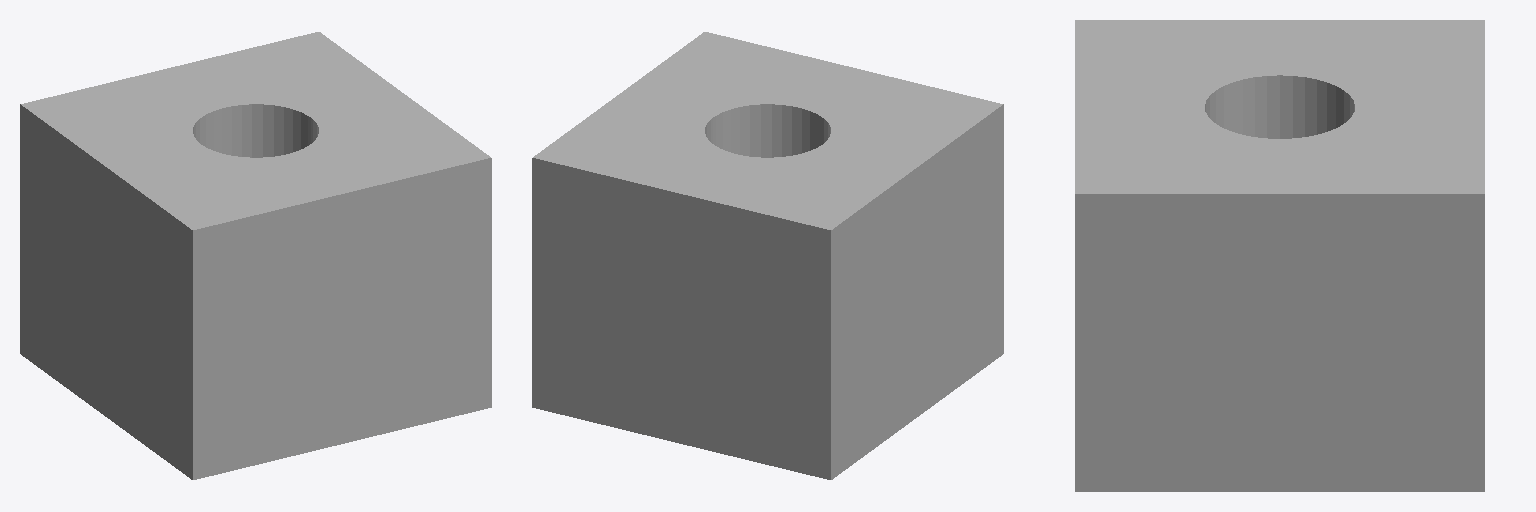
URDF robot description (assemble_part_1):
<?xml version="1.0" ?>
<robot name="assemble_part_1">
  <!-- Define a simple part that references the STL file -->
  
  <link name="base_link">
    <!-- Visual representation -->
    <visual>
      <geometry>
        <mesh filename="./1.stl" scale="1.0 1.0 1.0"/>
      </geometry>
      <material name="silver">
        <color rgba="0.75 0.75 0.75 1.0"/>
      </material>
      <origin xyz="0.0 0.0 0.0" rpy="0.0 0.0 0.0"/>
    </visual>

    <!-- Inertial properties -->
    <inertial>
      <mass value="1.0"/>
      <inertia ixx="0.1" ixy="0.0" ixz="0.0" iyy="0.1" iyz="0.0" izz="0.1"/>
      <origin xyz="0.0 0.0 0.0" rpy="0.0 0.0 0.0"/>
    </inertial>
  </link>

</robot>

--- Facts derived from the render (not from the file) ---
3 views of the same robot in one strip: view 1: azimuth 30°, elevation 25°; view 2: azimuth 150°, elevation 25°; view 3: azimuth 270°, elevation 25° (orthographic).
Robot: assemble_part_1 — 1 links, 0 joints (none); root link base_link; default pose: every joint at zero.
Links seen in each view (by area): view 1: base_link; view 2: base_link; view 3: base_link.
Link boxes in pixels (x1,y1,x2,y2): base_link: [20, 32, 491, 479]; base_link: [532, 32, 1003, 479]; base_link: [1075, 20, 1484, 491].
Size in the robot's own frame: 150 by 150 by 120 metres.
1 mesh visuals loaded from 1 distinct referenced files (1 binary STL).